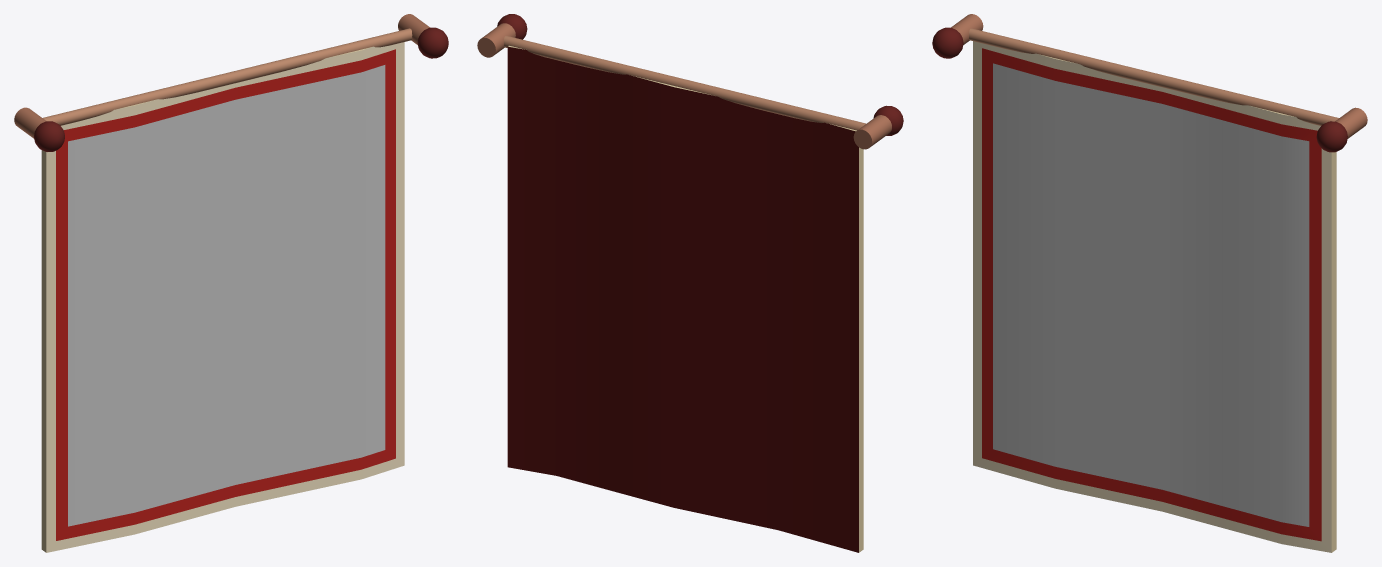
File: tapestry.fbx
The picture shows the model from 3 angles, left to right: view 1: azimuth 30°, elevation 25°; view 2: azimuth 150°, elevation 25°; view 3: azimuth 330°, elevation 25°; orthographic projection. The views are drawn at different scales.
Parts seen in each view (by area): view 1: tapestry; view 2: tapestry; view 3: tapestry.
Part boxes in pixels (x1=…): tapestry: x1=14, y1=14, x2=448, y2=552; tapestry: x1=477, y1=14, x2=903, y2=552; tapestry: x1=932, y1=14, x2=1367, y2=552.
Bounding box in the file's own units: 8.5 × 8.77 × 1.21.
